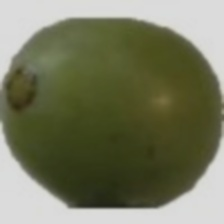grapes: (13, 17, 191, 199)
